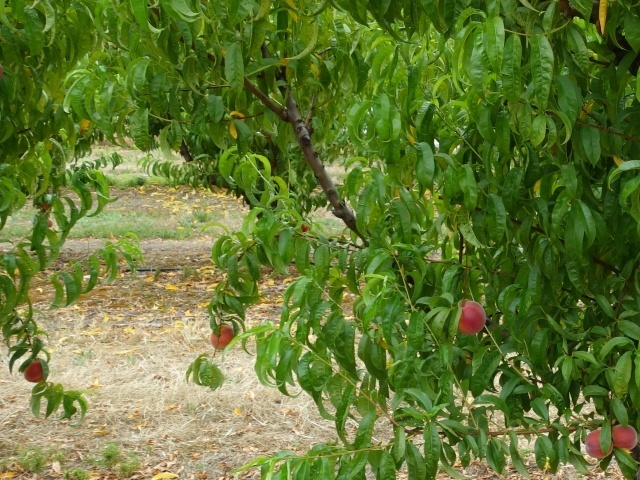peach: (453, 298, 489, 338), (583, 426, 616, 461), (611, 418, 639, 451), (208, 323, 237, 353), (21, 357, 51, 385)
